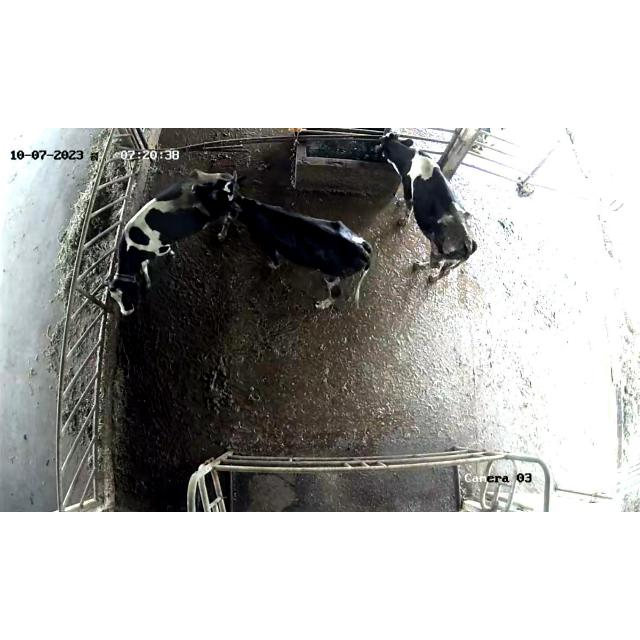propping: (165, 168, 281, 228)
